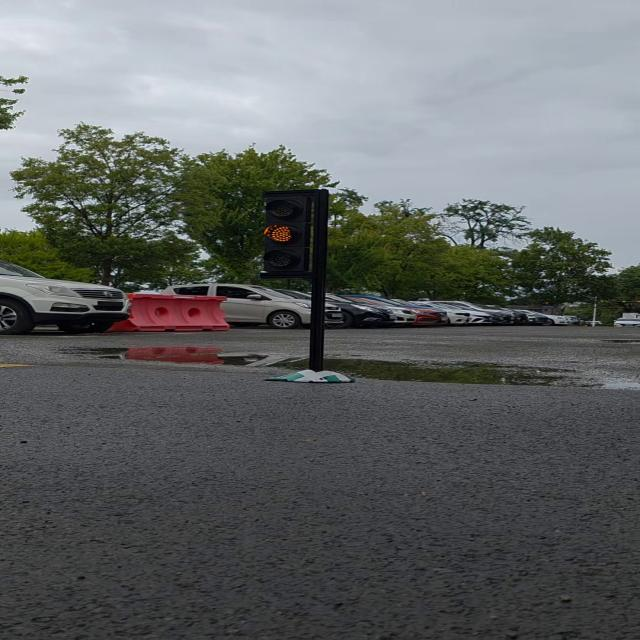yellow: (259, 191, 332, 282)
